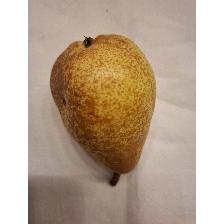Birne: (47, 31, 159, 189)
